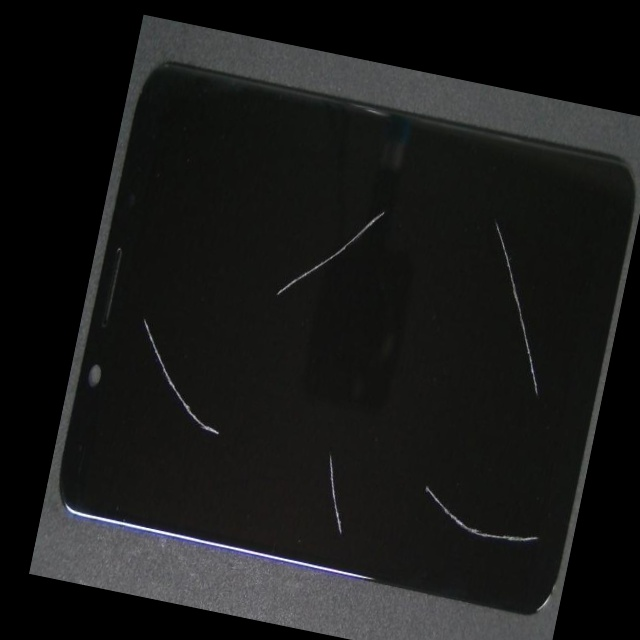scratch: (264, 206, 629, 565), (249, 102, 535, 295)
